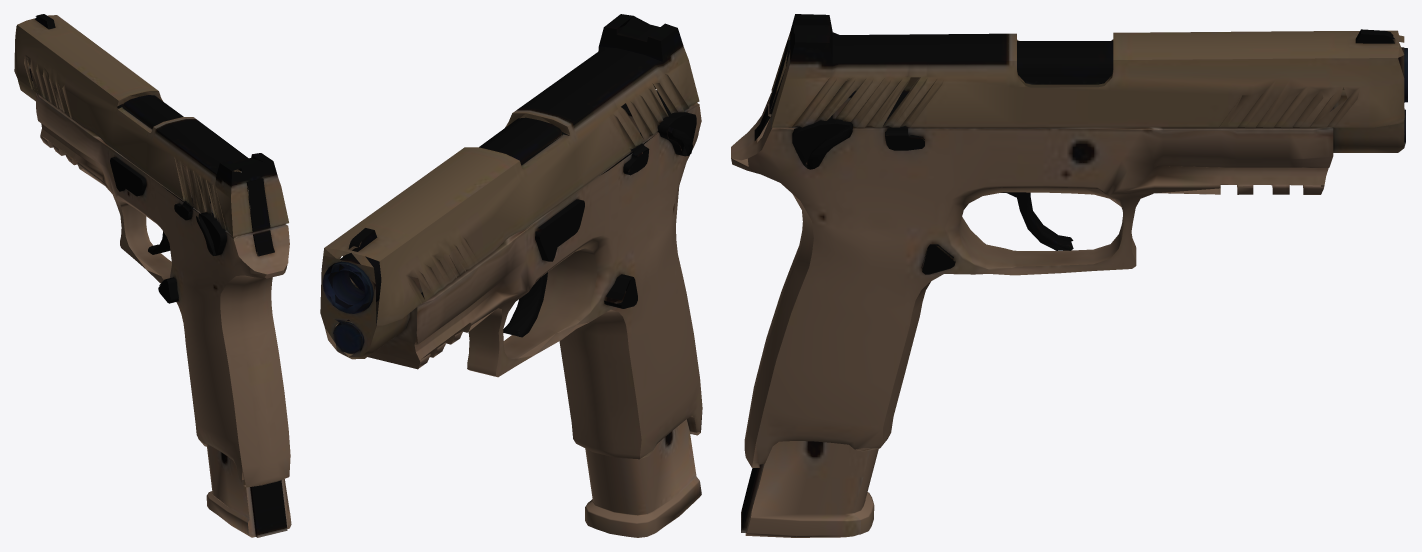
3 views of the same model, side by side, from view 1: azimuth 30°, elevation 25°; view 2: azimuth 150°, elevation 25°; view 3: azimuth 270°, elevation 25° (orthographic). The views are drawn at different scales.
Visible parts, largest first — view 1: merged; view 2: merged; view 3: merged.
Boxes of the visible parts, x1,y1,x2,y2 form: merged: [14, 14, 291, 537]; merged: [320, 14, 702, 537]; merged: [731, 14, 1407, 537].
Bounding box in the file's own units: 20.49 × 95.91 × 119.
3 materials, 3 textured.
